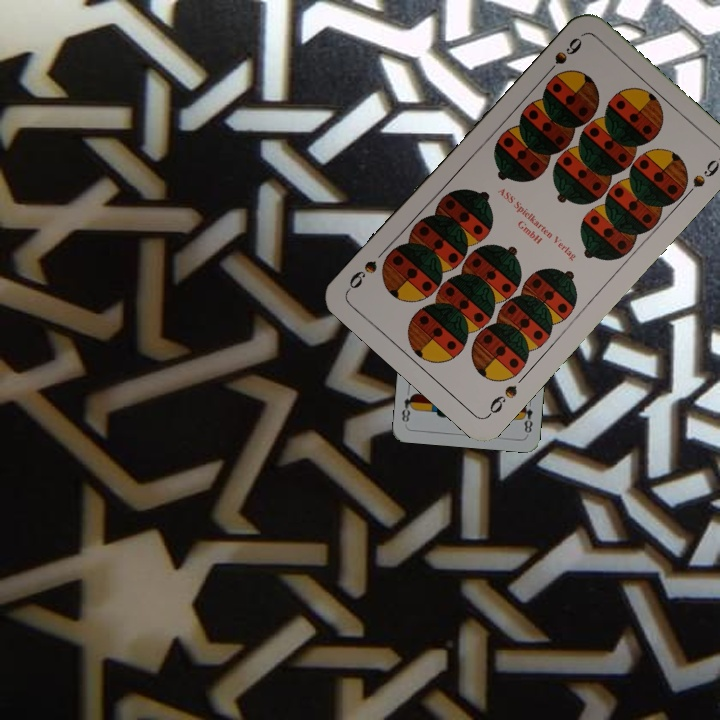E8: (517, 399, 535, 436)
S9: (540, 33, 585, 80), (483, 380, 520, 419)
